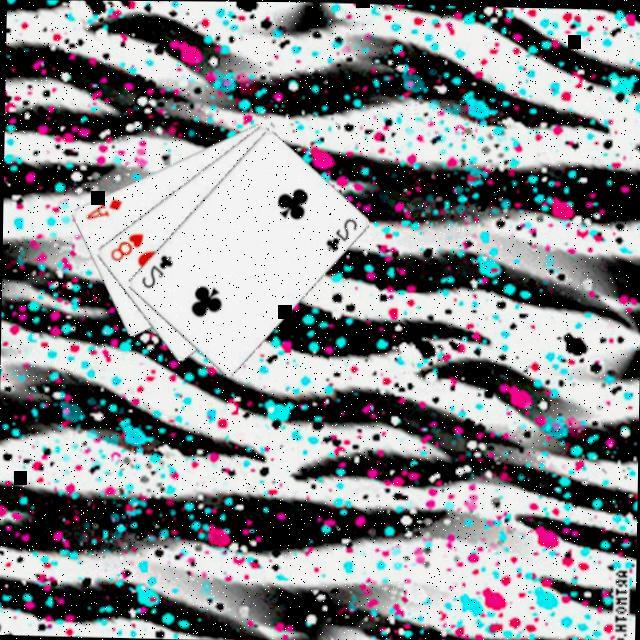2C: (319, 212, 358, 254), (136, 249, 174, 290)
8H: (105, 228, 144, 262)
AD: (80, 192, 122, 221)
